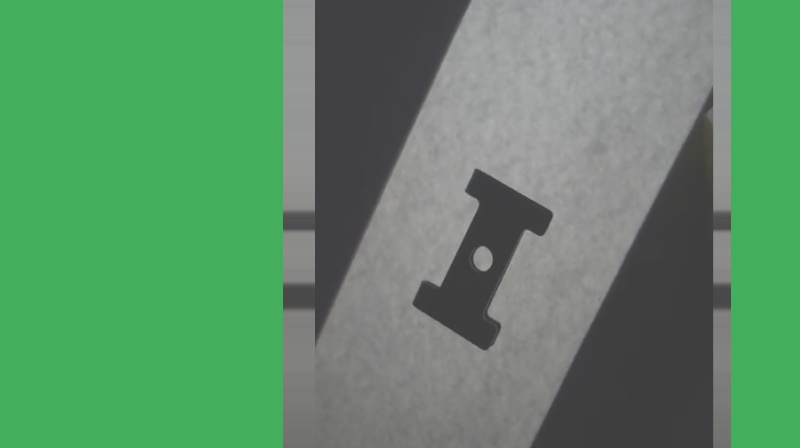O002: (411, 166, 555, 350)
